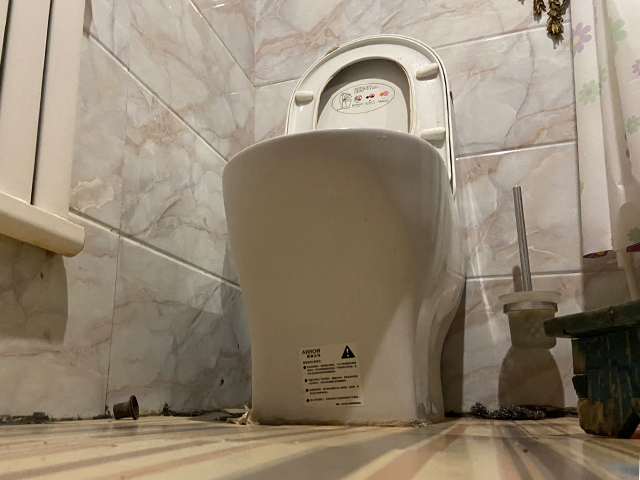closestool: (218, 33, 467, 428)
stool: (543, 299, 640, 438)
